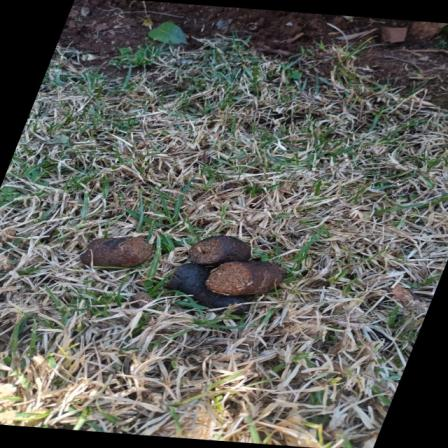dog-poop: (162, 230, 282, 314), (84, 223, 152, 272)
